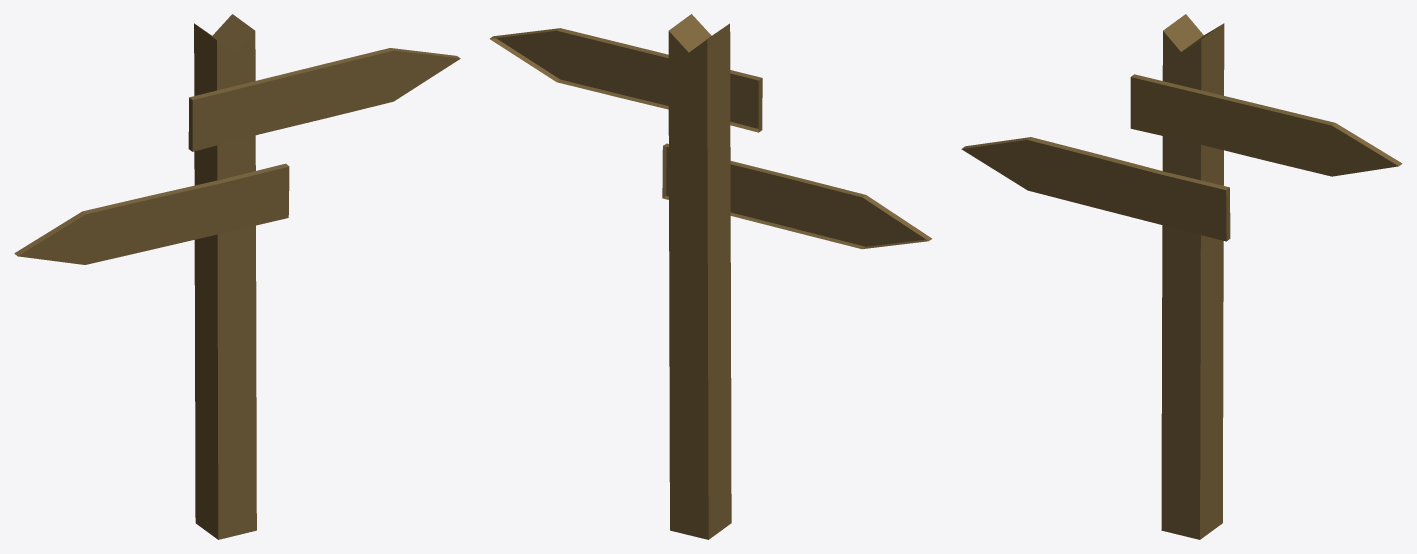
File: WaxWorld_Sign_2.fbx
3 views of the same model, side by side, from view 1: azimuth 30°, elevation 25°; view 2: azimuth 150°, elevation 25°; view 3: azimuth 330°, elevation 25° (orthographic).
Visible parts, largest first — view 1: Plane001; view 2: Plane001; view 3: Plane001.
Boxes of the visible parts, x1=… form: Plane001: x1=14, y1=14, x2=460, y2=539; Plane001: x1=490, y1=14, x2=932, y2=539; Plane001: x1=961, y1=14, x2=1402, y2=539.
Size of the model in its own units: 56.74 by 61.41 by 6.15.
1 material, 1 textured.
